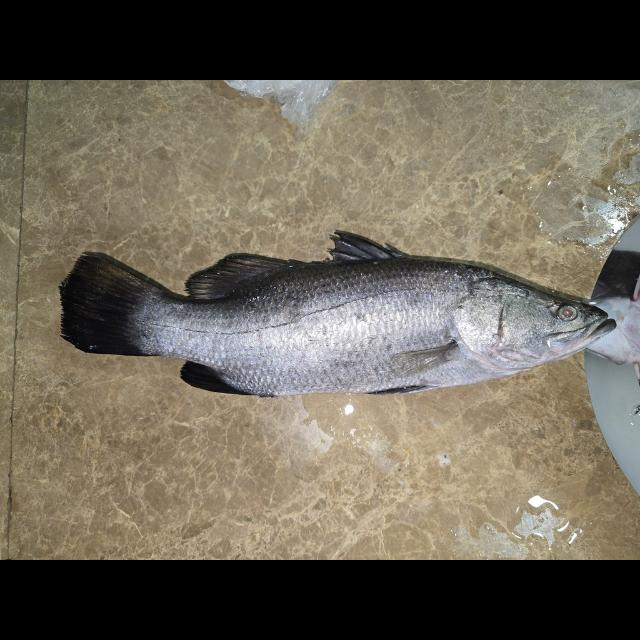Seabass: (59, 229, 618, 397)
